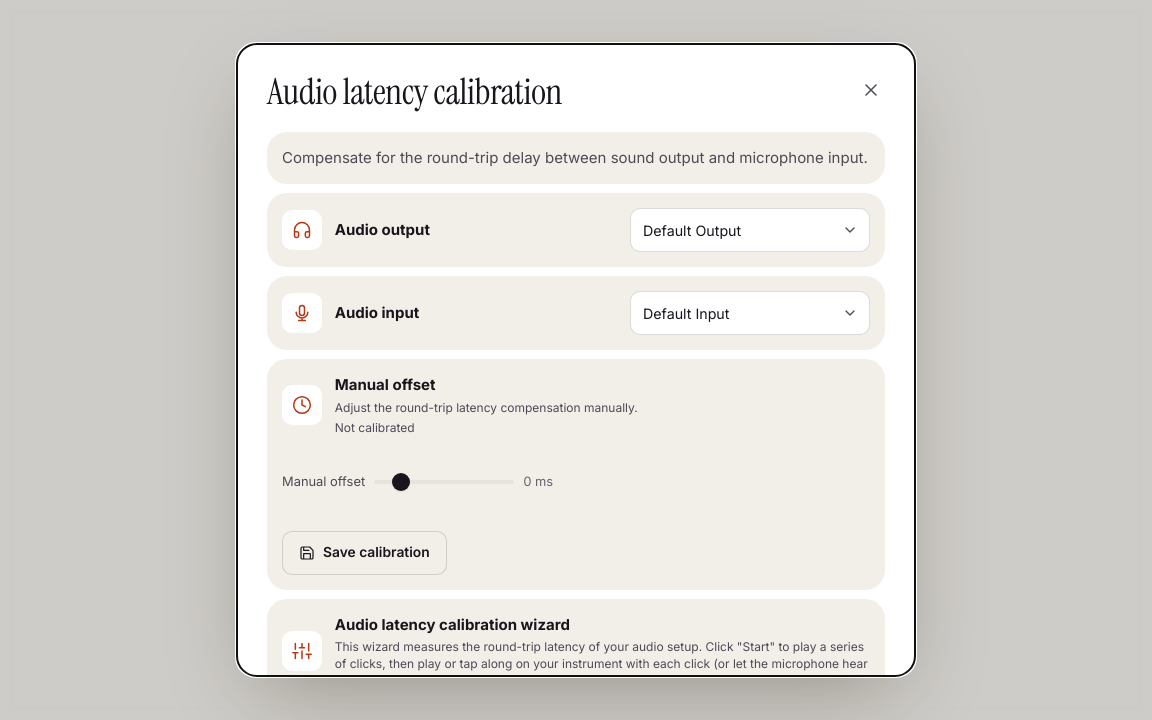
Scenario: CalibrationSheet › warns when Bluetooth audio output is selected
Select Bluetooth device
Select "AirPods Pro Bluetooth" in the dropdown with test id "output-device-select" at [750, 230], box [630,208,870,252]
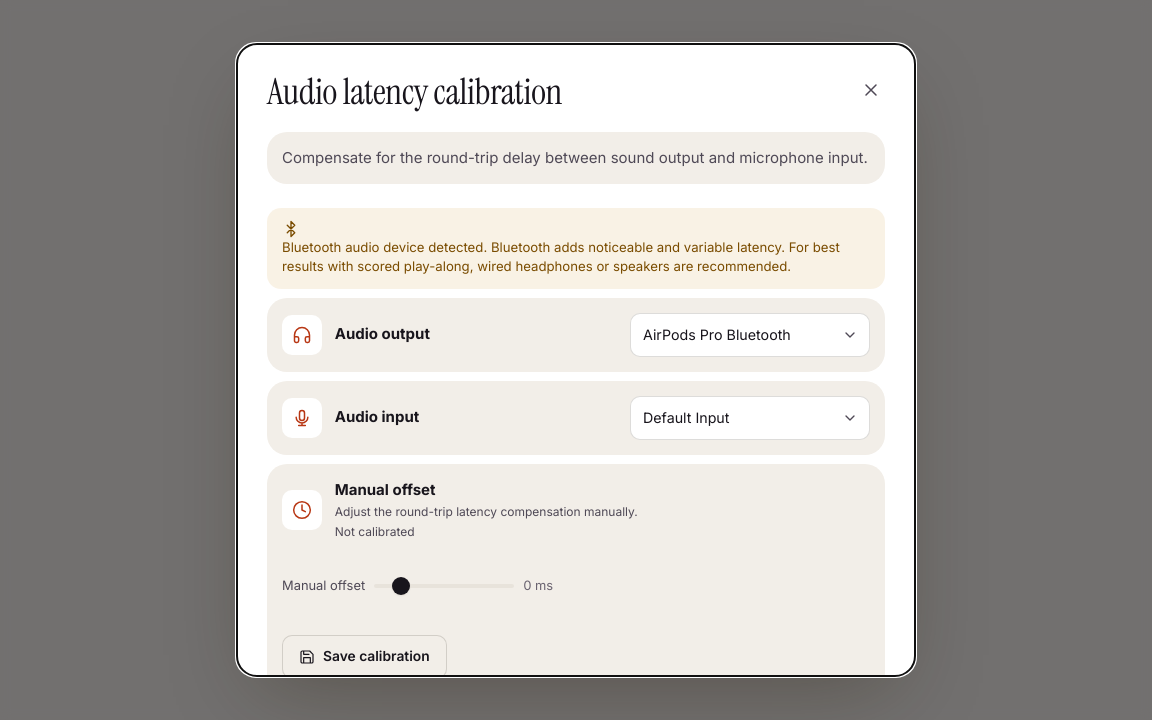
expect the message with test id "bluetooth-warning" is shown: met, box [267,208,885,288]
